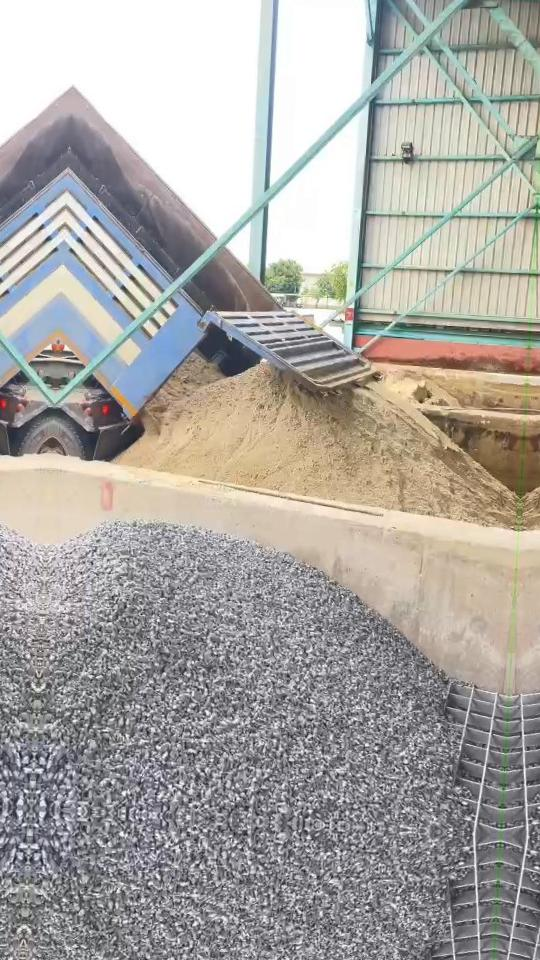gravel: (33, 522, 470, 833)
sand: (119, 365, 516, 527), (141, 353, 223, 432), (383, 371, 458, 406)
